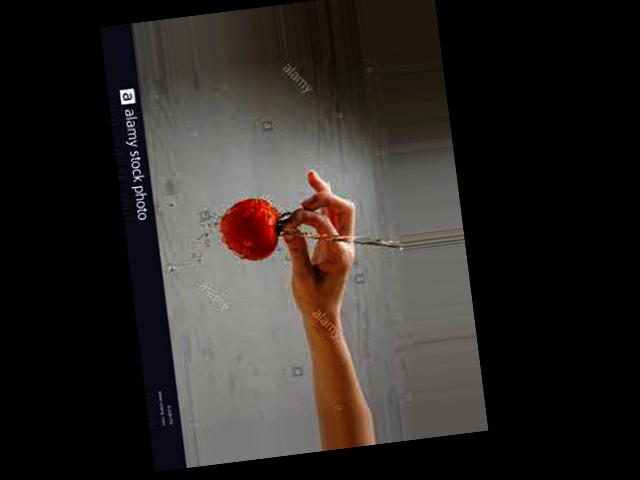tomato: (216, 197, 282, 266)
